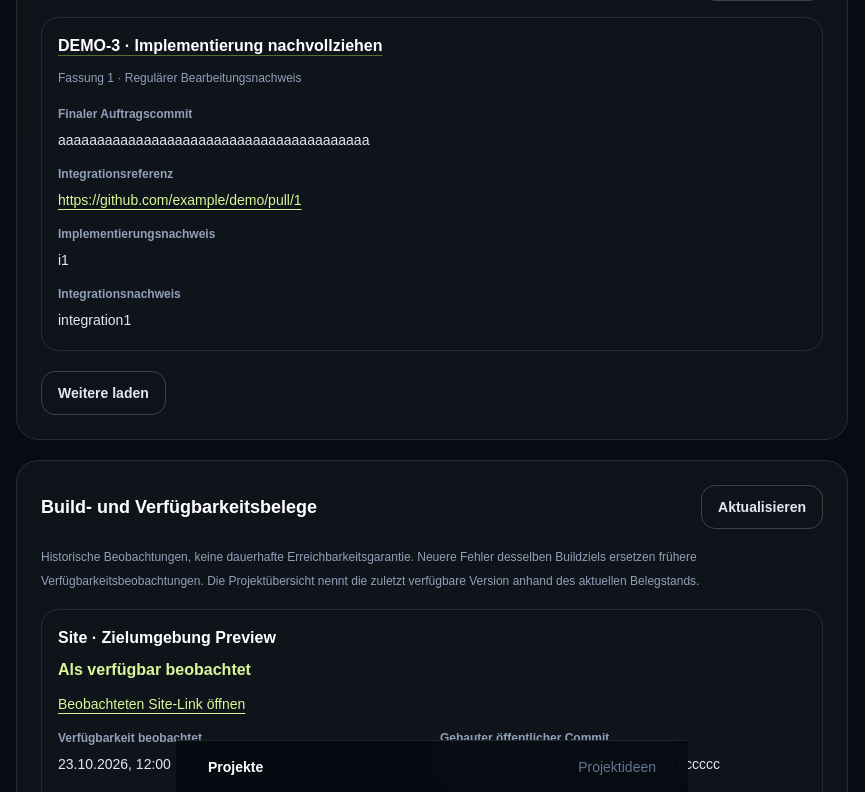
LUUFI-17 Versionen lesen › behandelt Seitencursor unabhängig und lädt nach Konflikt bewusst wieder die erste Seite
(page scrolled)
Check: the link "DEMO-3 · Implementierung nachvollziehen" is shown, box left=58, top=37, right=382, bottom=54
Click the button "Weitere laden" at (103, 393), box left=41, top=371, right=166, bottom=415
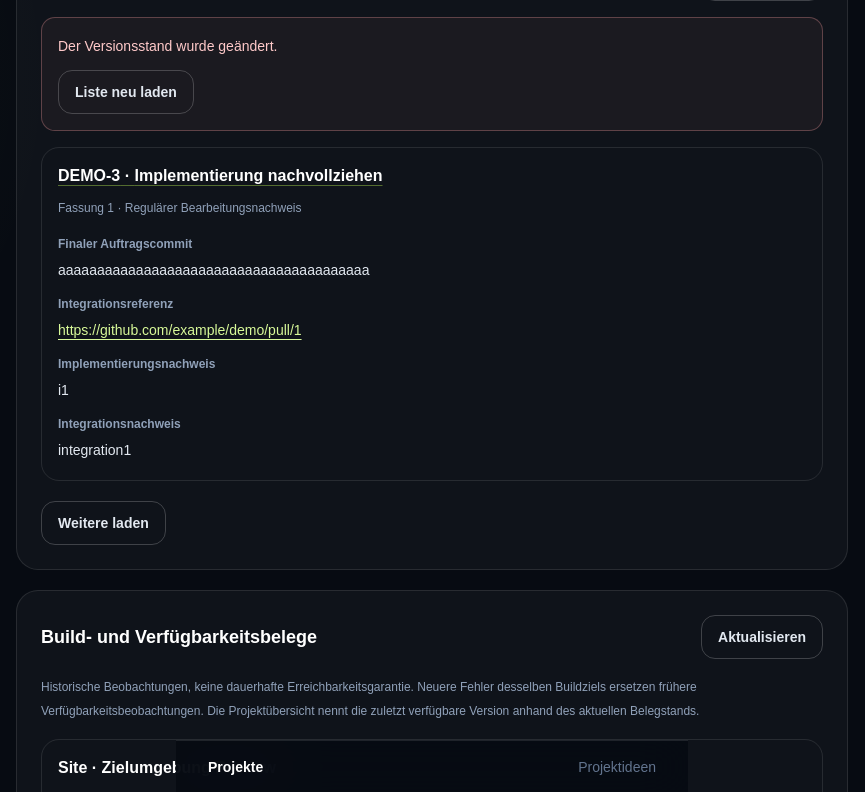
Check: the message shows "Versionsstand wurde geändert", box left=58, top=38, right=278, bottom=54
Click the button "Liste neu laden" at (126, 92), box left=58, top=70, right=194, bottom=114
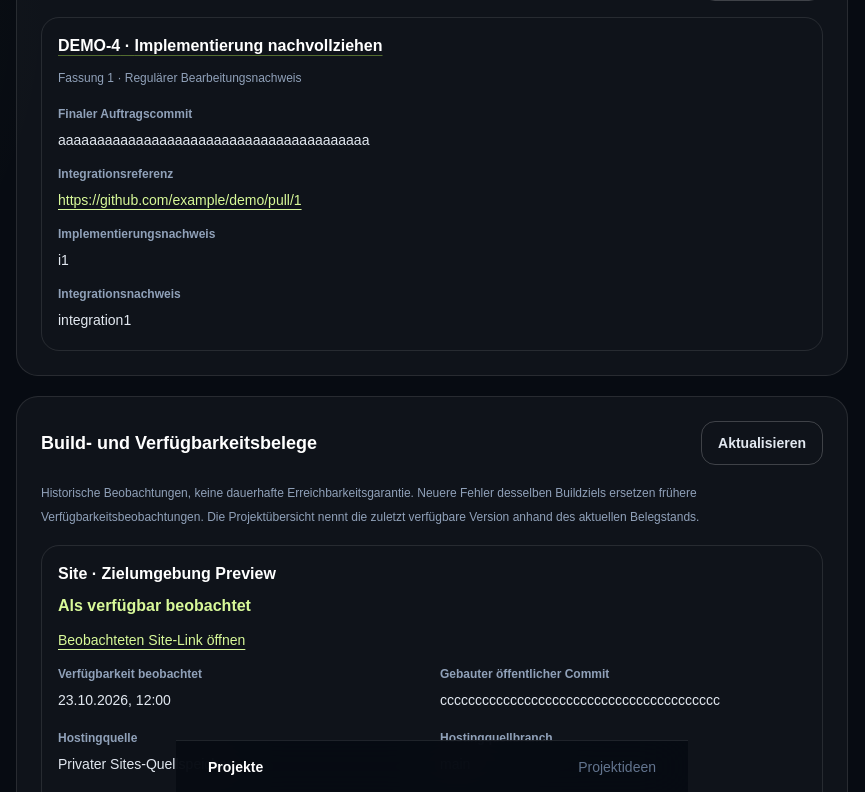
Check: the link "DEMO-4 · Implementierung nachvollziehen" is shown, box left=58, top=37, right=382, bottom=54
Check: the link "DEMO-3" is gone
